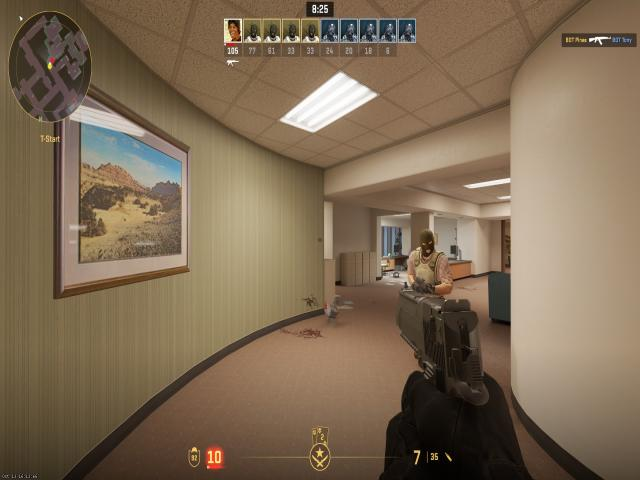T: (408, 225, 454, 298)
T-Head: (416, 227, 440, 261)
